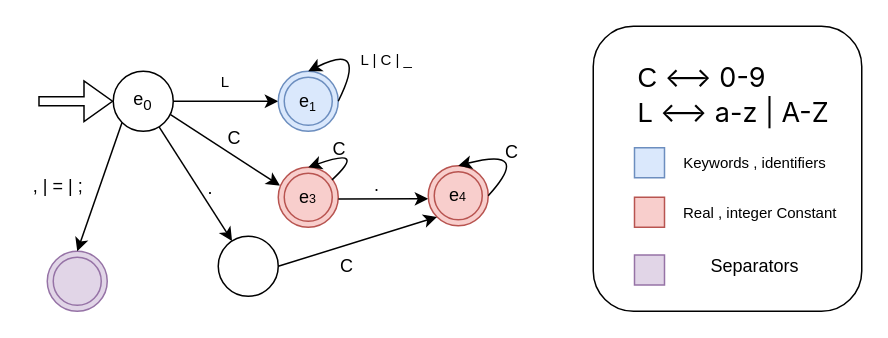
Some shapes in this 888 by 338 pixel diagram are drawn without their labels. Here are the shapes that lost their labels. From the top down, the box of each, then its label:
(46, 250, 107, 311): e 2
(217, 235, 278, 296): e 5
